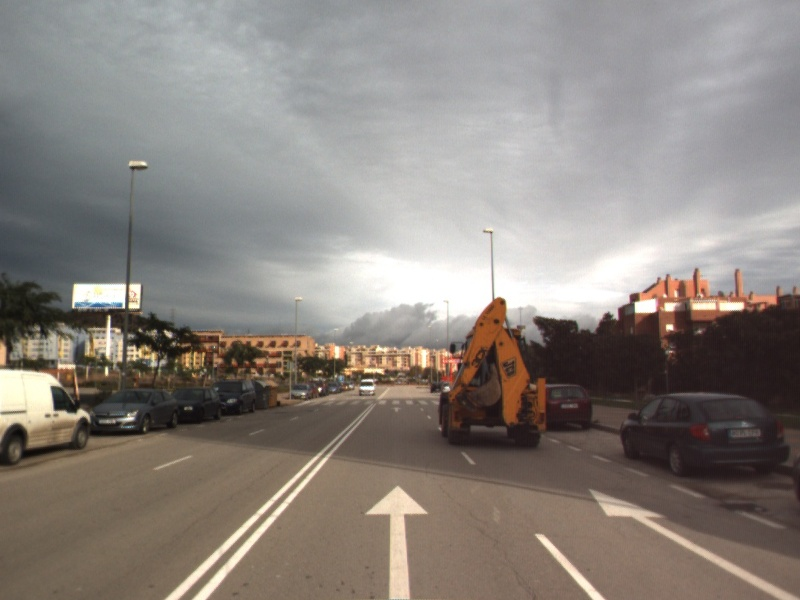STRAIGHT: (586, 486, 800, 600), (363, 482, 432, 600), (389, 405, 404, 414)
